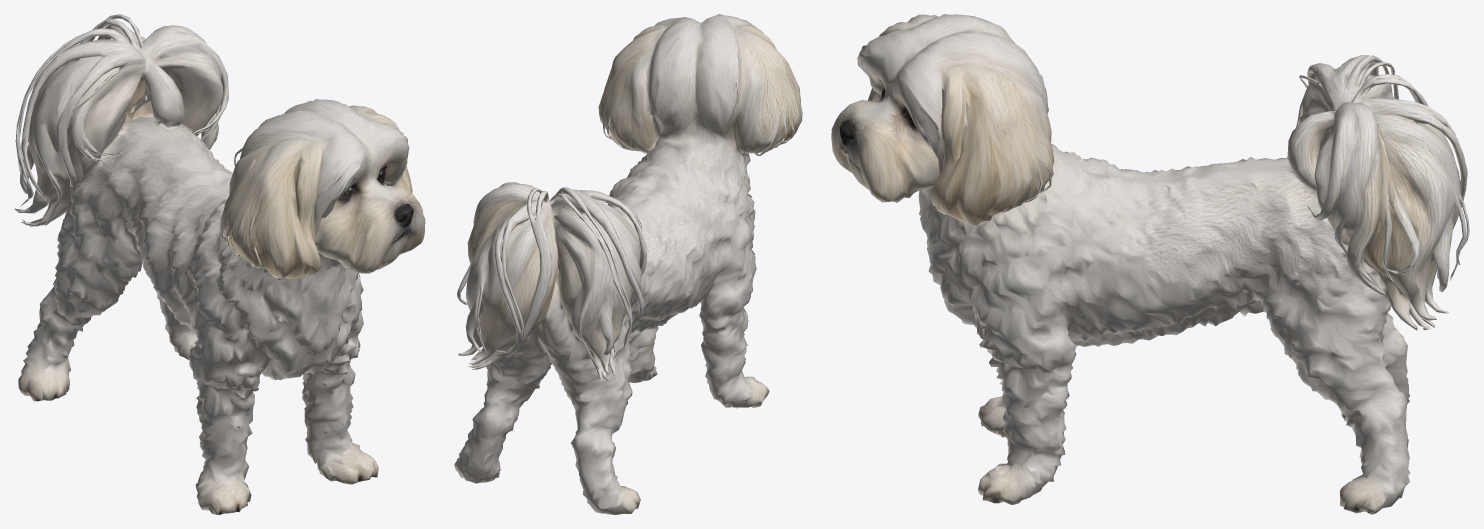
Rendered from bokseul.glb.
3 views of the same model, side by side, from view 1: azimuth 30°, elevation 25°; view 2: azimuth 150°, elevation 25°; view 3: azimuth 270°, elevation 25° (orthographic). The views are drawn at different scales.
Parts seen in each view (by area): view 1: tripo_node_41039a2c-7d30-4999-a257-afe0569dfee5; view 2: tripo_node_41039a2c-7d30-4999-a257-afe0569dfee5; view 3: tripo_node_41039a2c-7d30-4999-a257-afe0569dfee5.
Boxes of the visible parts, left/top/right/bottom form: tripo_node_41039a2c-7d30-4999-a257-afe0569dfee5: left=15, top=14, right=425, bottom=514; tripo_node_41039a2c-7d30-4999-a257-afe0569dfee5: left=454, top=14, right=802, bottom=514; tripo_node_41039a2c-7d30-4999-a257-afe0569dfee5: left=831, top=14, right=1469, bottom=514.
Size of the model in its own units: 0.4236 by 0.7667 by 1.
1 material, 1 textured.
